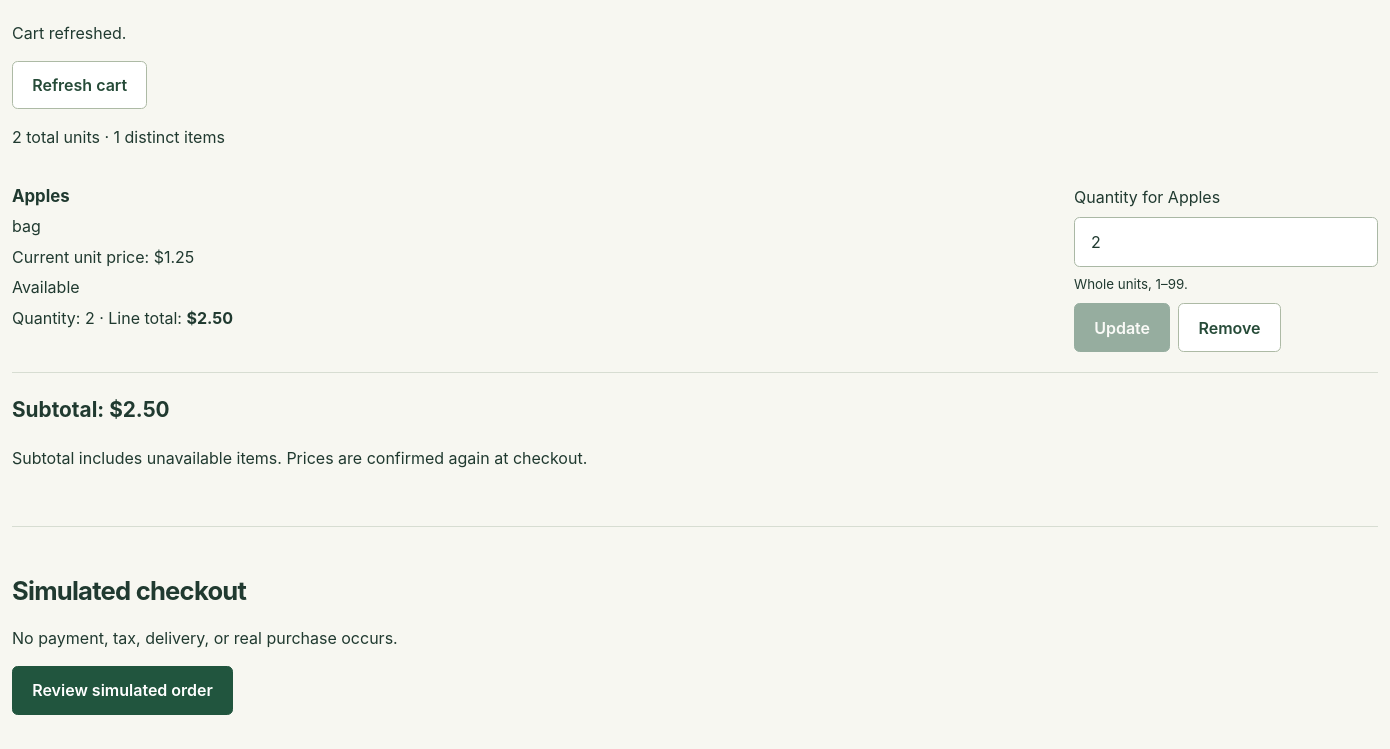
Test case: simulated checkout › bounds checkout at eight seconds and permits only explicit same-key retry
(page scrolled)
Click the button "Review simulated order": (123, 690) [12,666,233,714]
(page scrolled)
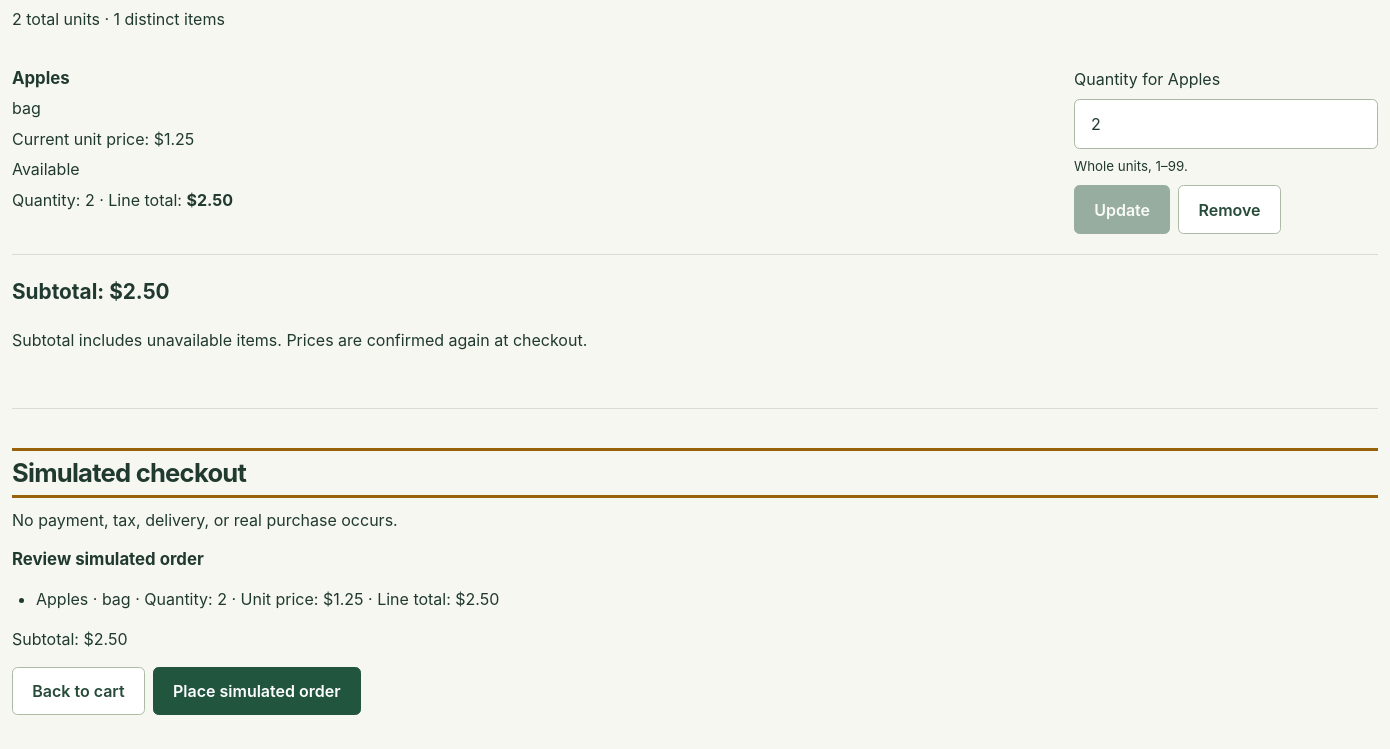
Result: the button "Place simulated order" is shown
Click the button "Place simulated order": (257, 691) [153,667,361,715]
Wait 8000 ms
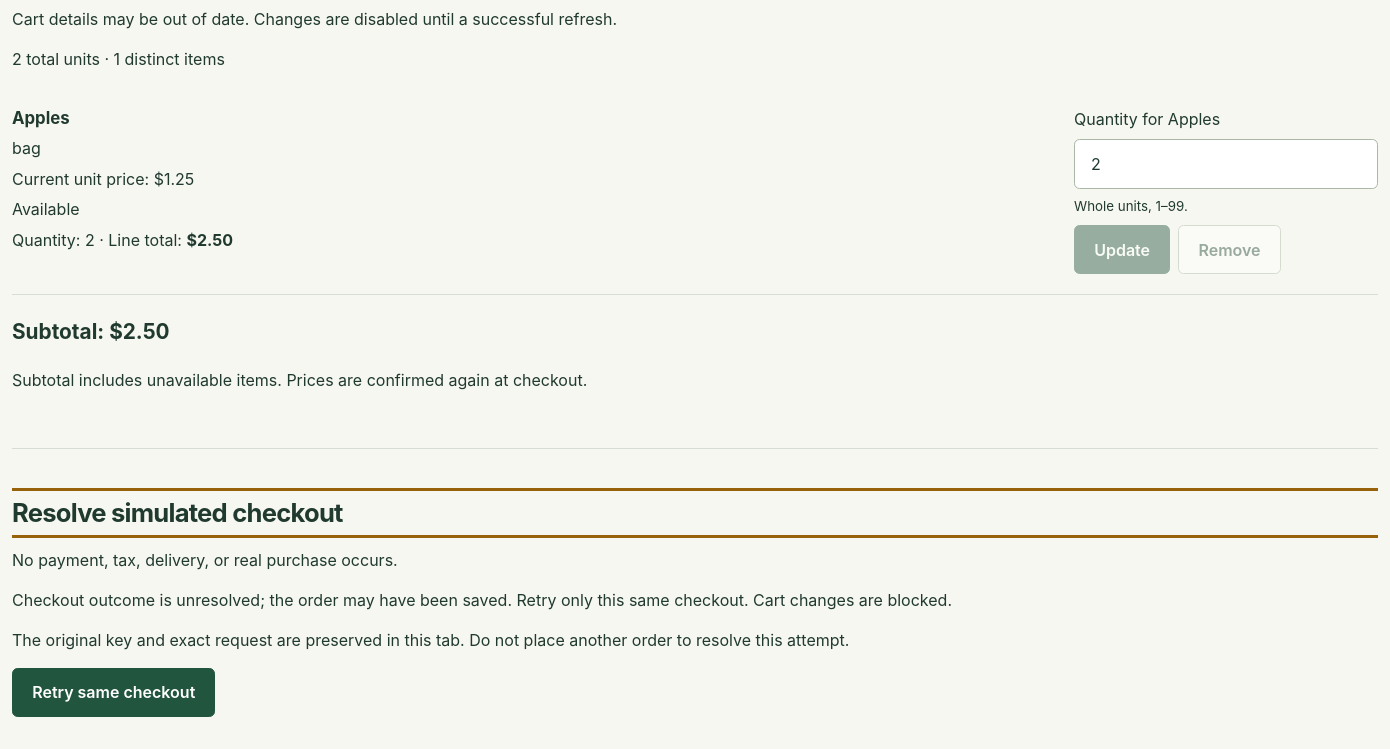
Result: the text "Checkout outcome is unresolved" is shown at [12,590,952,610]
Click the button "Retry same checkout": (114, 692) [12,668,216,716]
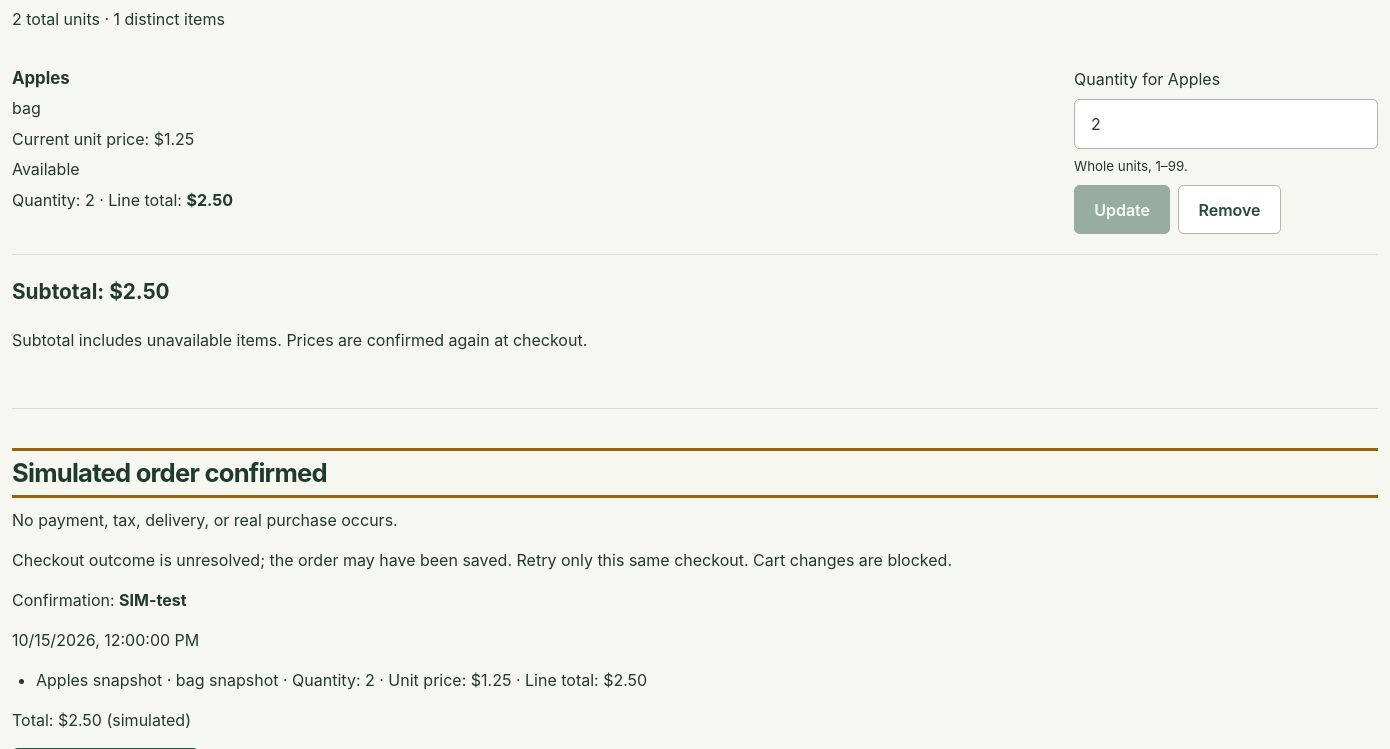
Result: the text "SIM-test" is shown at [119,590,186,610]
